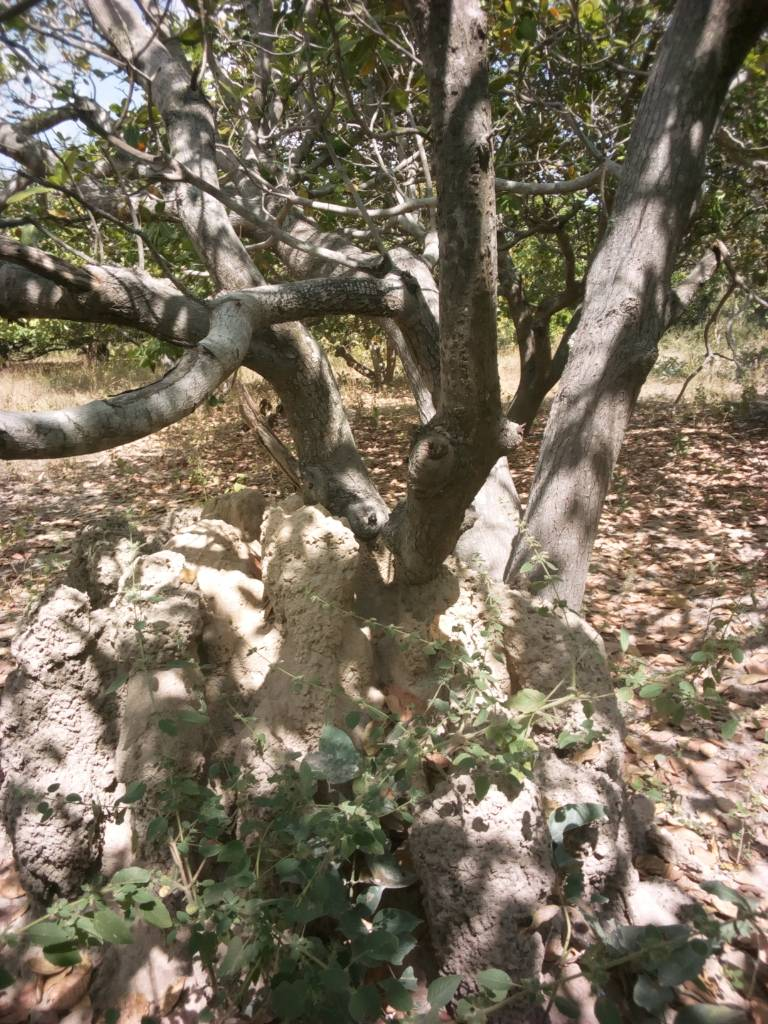Virose: (1, 486, 733, 936)
